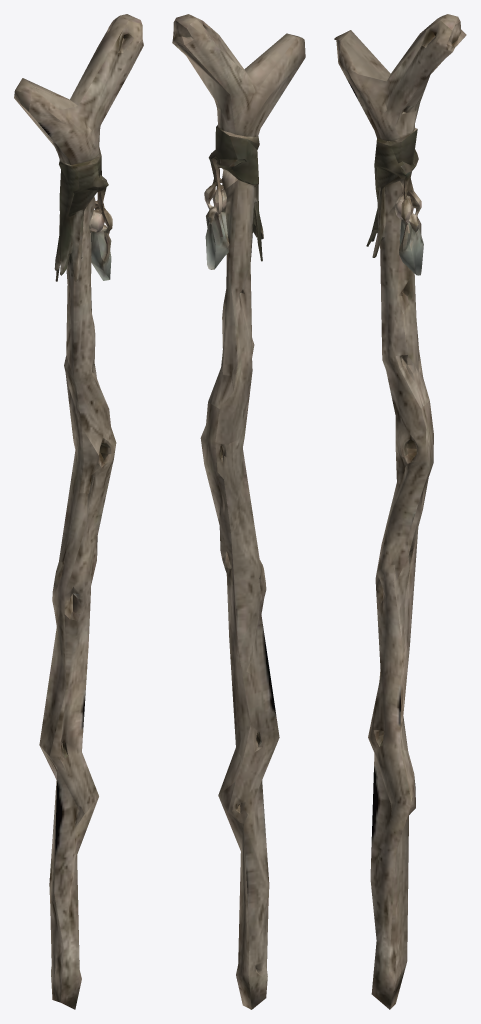
The model's file is staff-knotted.glb.
3 views of the same model, side by side, from view 1: azimuth 30°, elevation 25°; view 2: azimuth 210°, elevation 25°; view 3: azimuth 330°, elevation 25° (orthographic). The views are drawn at different scales.
Parts seen in each view (by area): view 1: Mesh0; view 2: Mesh0; view 3: Mesh0.
Part boxes in pixels (x1,y1,x2,y2): Mesh0: (14, 14, 143, 1009); Mesh0: (172, 14, 305, 1009); Mesh0: (334, 14, 466, 1009).
Bounding box in the file's own units: 0.1308 × 1 × 0.046.
Materials: 1 (1 with a texture image).
